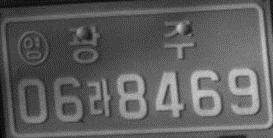0: (16, 77, 48, 125)
4: (154, 70, 184, 118)
6: (188, 68, 222, 117), (51, 75, 84, 123)
8: (114, 72, 147, 120)
9: (227, 67, 261, 116)
광주_D: (67, 20, 195, 65)
라: (85, 78, 112, 118)
영: (16, 29, 49, 66)
